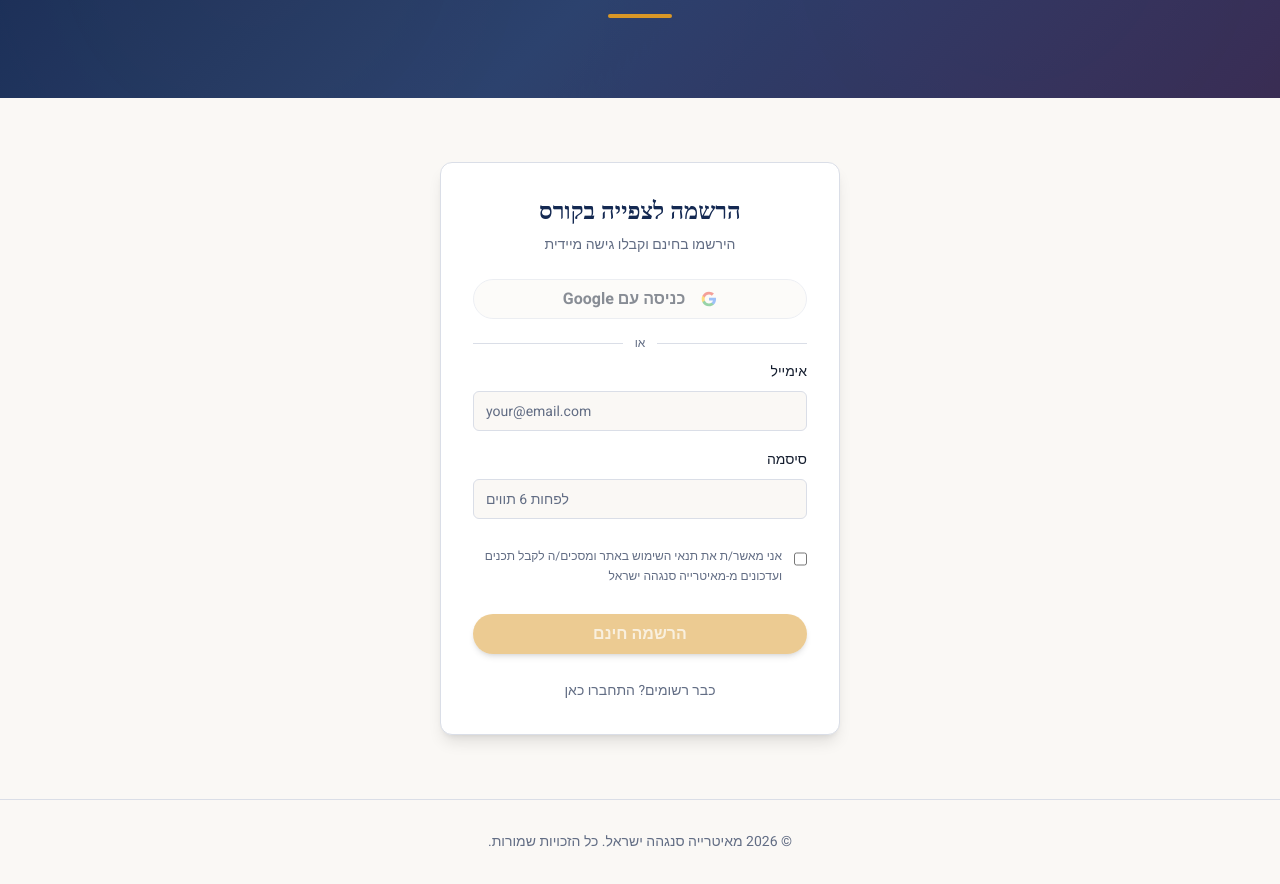
Register flow › displays login error from Supabase
(page scrolled)
Click the button "כבר רשומים? התחברו כאן" at (640, 691), box [564,681,716,701]
(page scrolled)
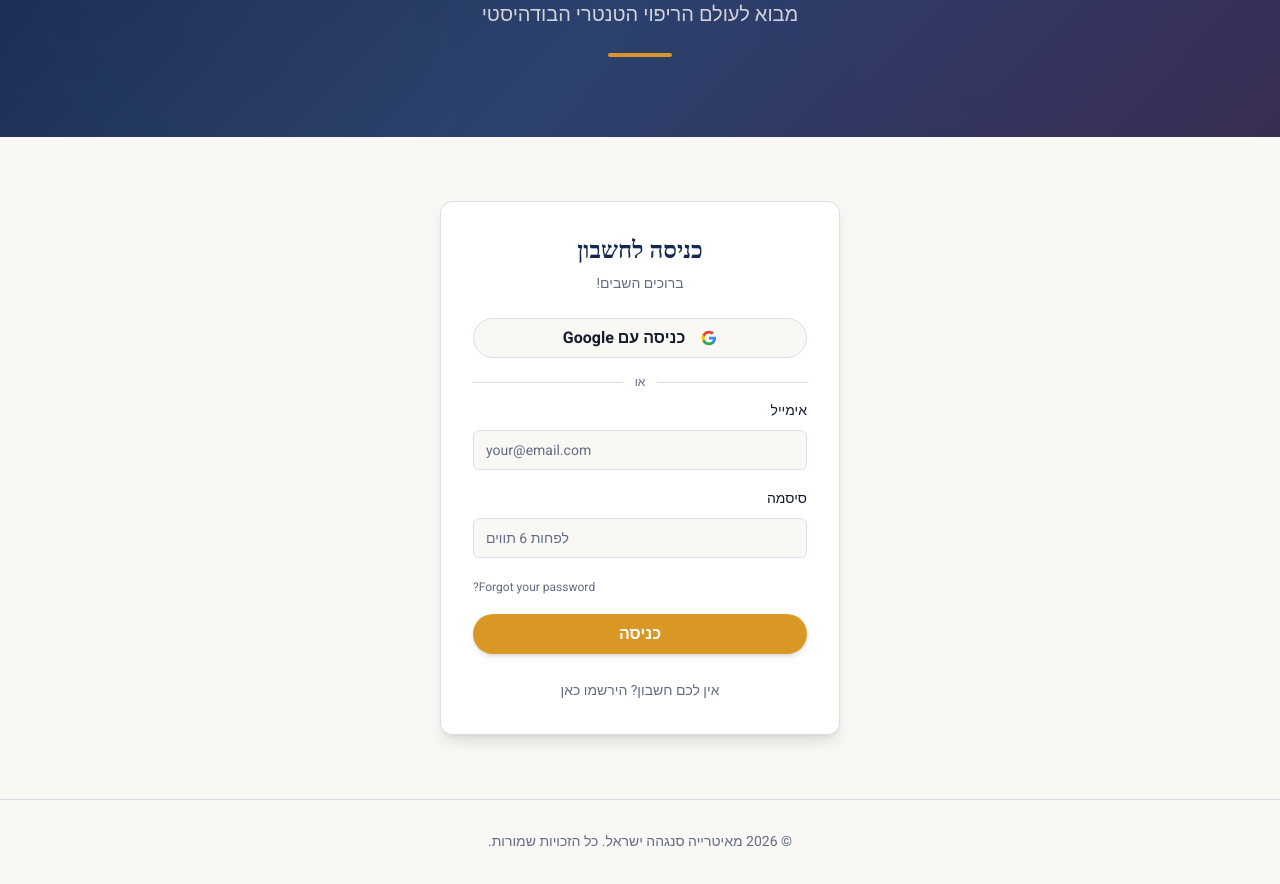
Type "test@test.com" into the field labelled "אימייל" at (640, 450), box [473,430,807,470]
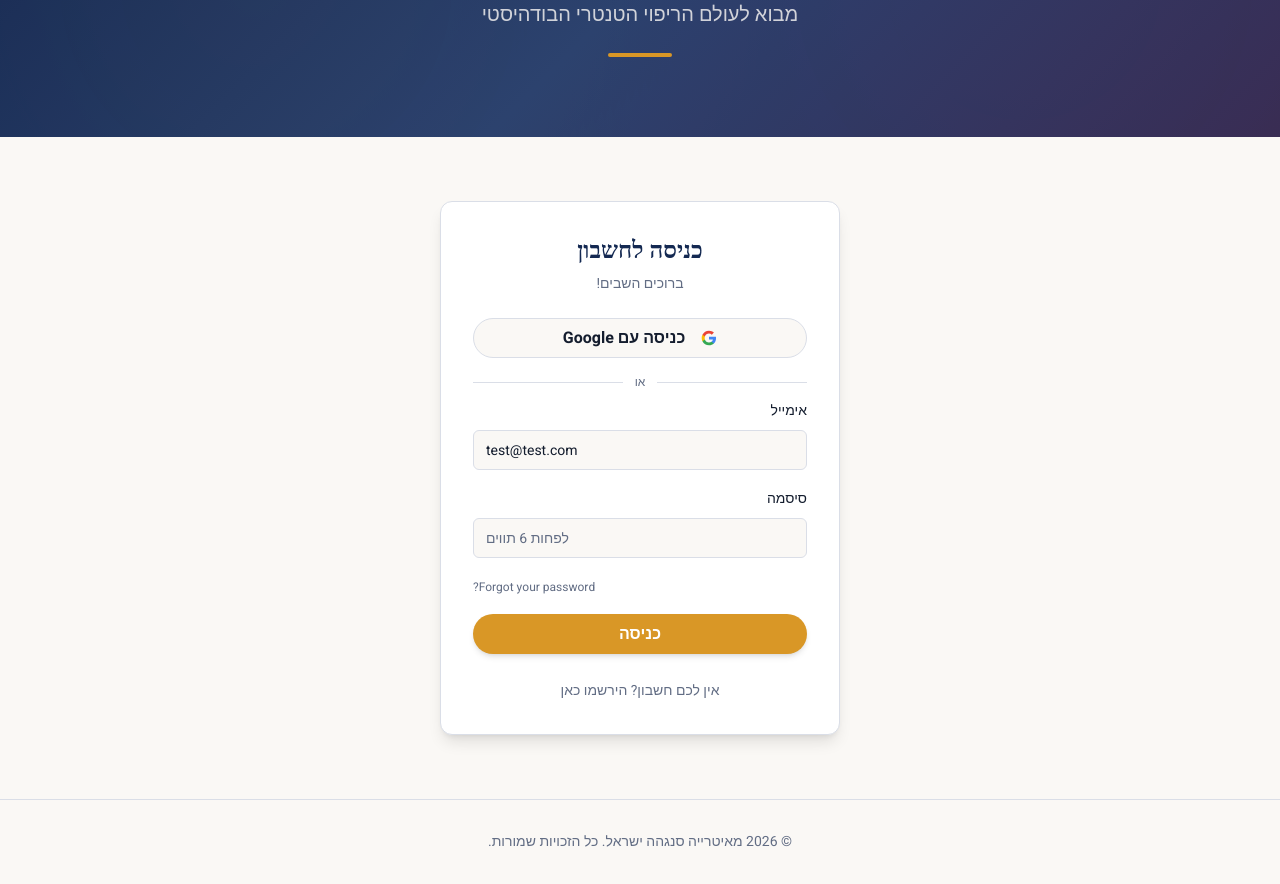
Type "wrong" into the password field labelled "סיסמה" at (640, 538), box [473,518,807,558]
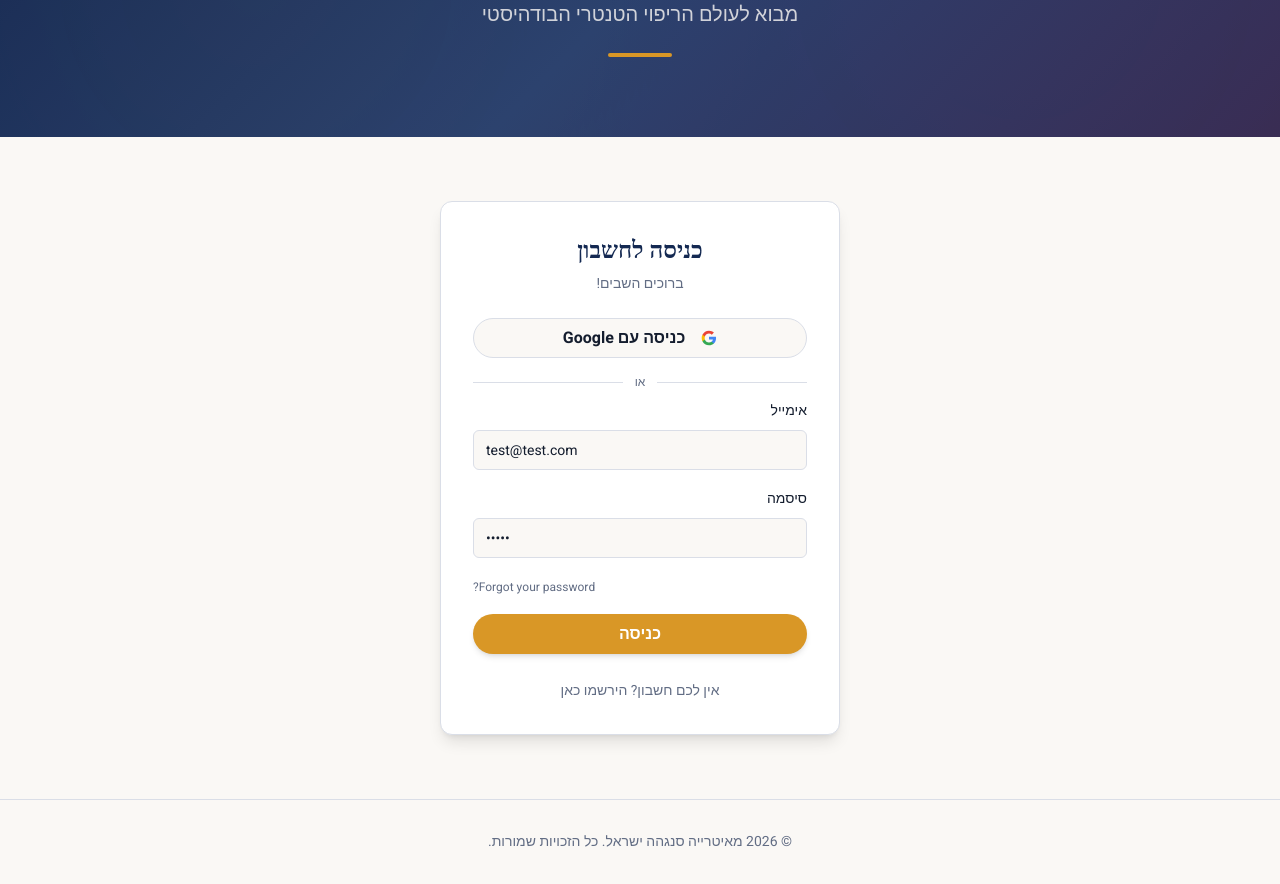
Click the button "כניסה" at (640, 634), box [473,614,807,654]
(page scrolled)
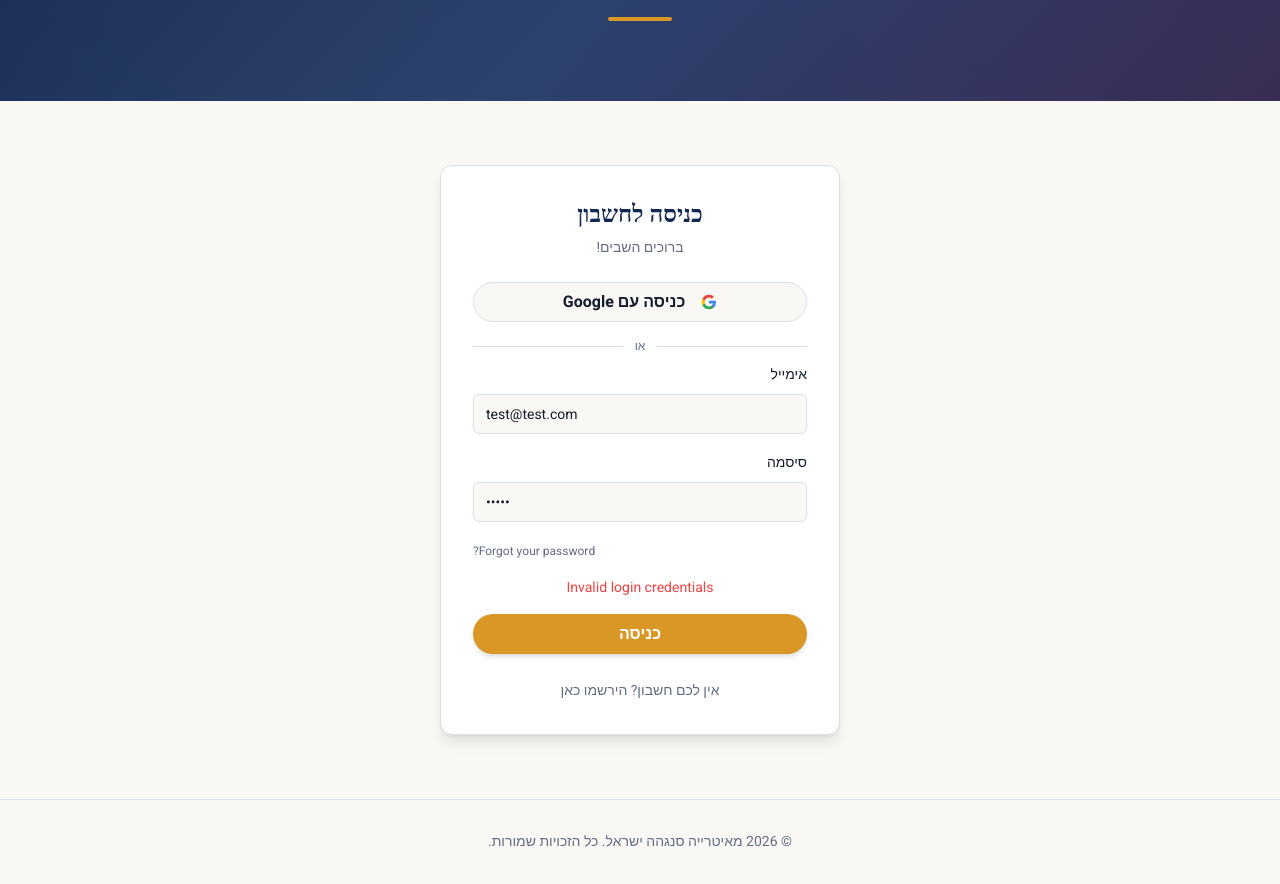
Check: the text "Invalid login credentials" is shown, box [566,577,714,598]
